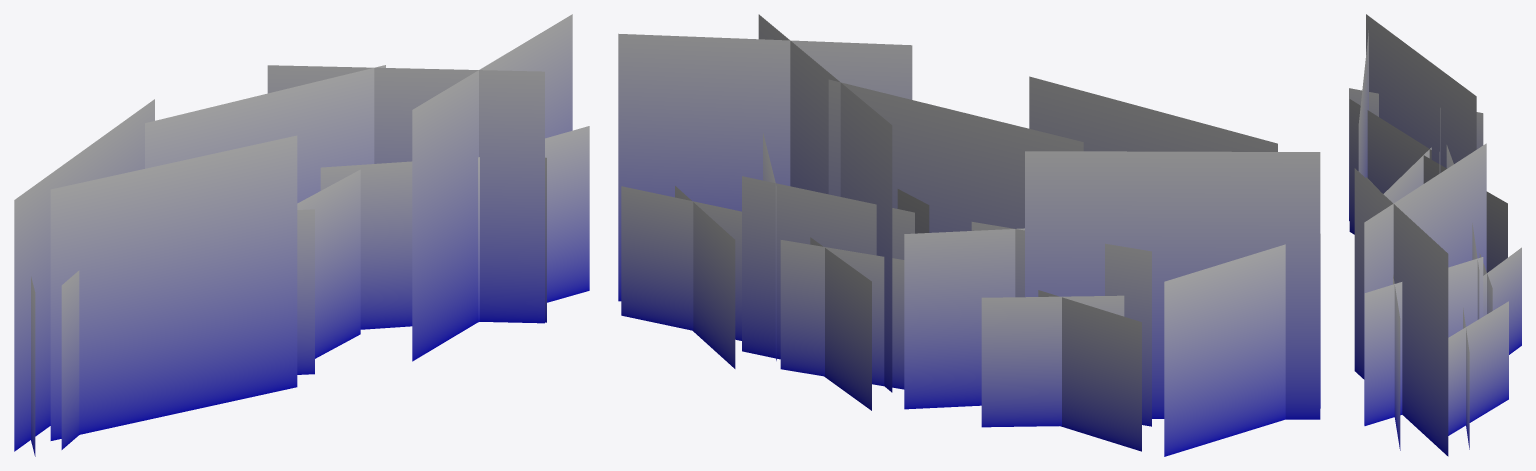
The model's file is grassPlane.fbx.
3 renders of one model, left to right at view 1: azimuth 30°, elevation 25°; view 2: azimuth 150°, elevation 25°; view 3: azimuth 270°, elevation 25°, orthographic. The views are drawn at different scales.
Visible parts, largest first — view 1: Plane; view 2: Plane; view 3: Plane.
Part boxes in pixels (bbox=[...]): Plane: bbox=[14, 14, 589, 456]; Plane: bbox=[618, 14, 1320, 456]; Plane: bbox=[1349, 14, 1521, 456].
Bounding box in the file's own units: 1.86 × 0.7344 × 0.5645.
